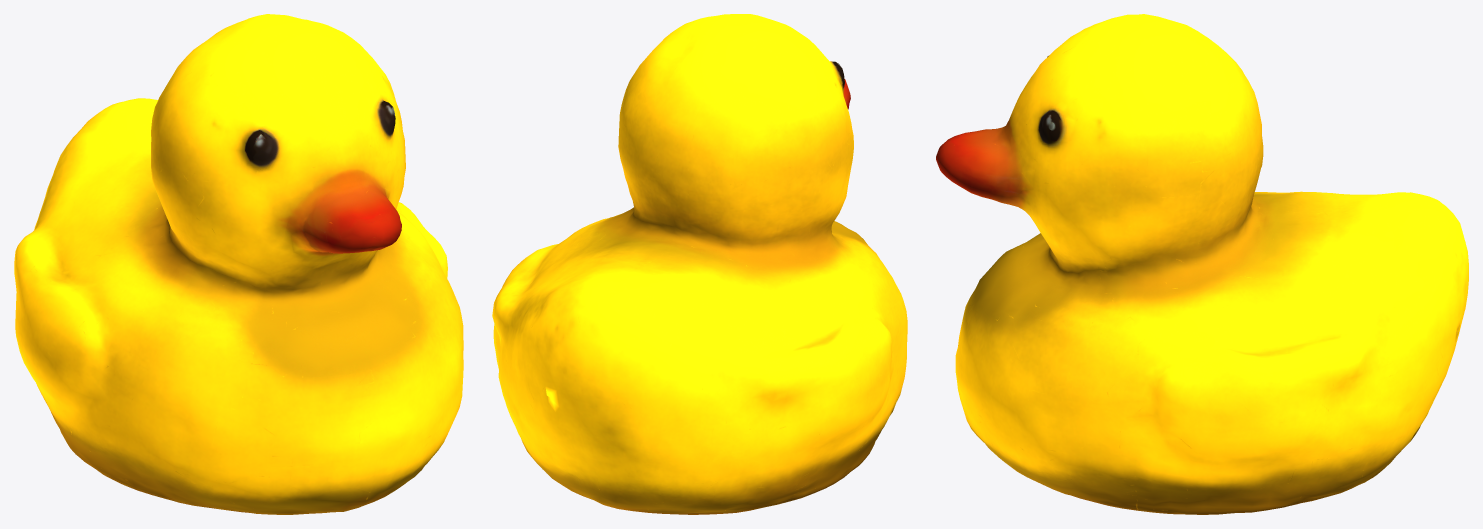
Rendered from Meshy_AI_Yellow_Rubber_Duck_0512085621_texture.fbx.
The picture shows the model from 3 angles, left to right: view 1: azimuth 30°, elevation 25°; view 2: azimuth 150°, elevation 25°; view 3: azimuth 270°, elevation 25°; orthographic projection. The views are drawn at different scales.
Visible parts, largest first — view 1: Mesh_0; view 2: Mesh_0; view 3: Mesh_0.
Boxes of the visible parts, x1,y1,x2,y2 form: Mesh_0: [14, 14, 463, 514]; Mesh_0: [492, 14, 907, 514]; Mesh_0: [936, 14, 1468, 514].
Size of the model in its own units: 156 by 164 by 191.
Materials: 1 (1 with a texture image).
